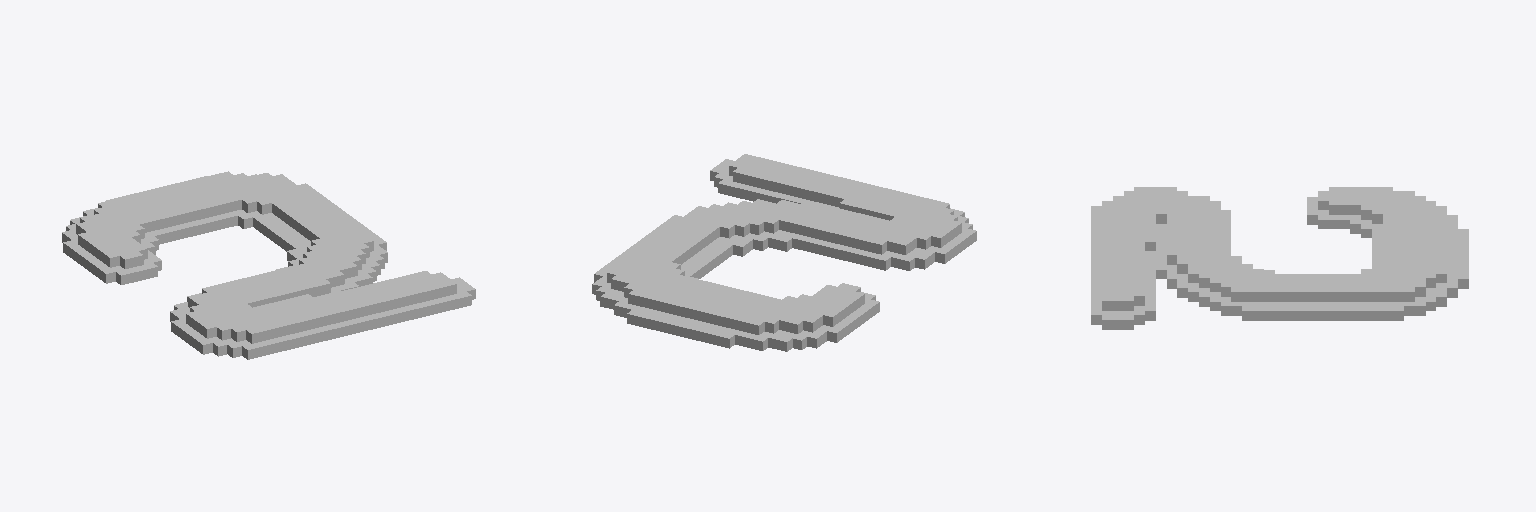
The model's file is Two.obj.
3 views of the same model, side by side, from view 1: azimuth 30°, elevation 25°; view 2: azimuth 150°, elevation 25°; view 3: azimuth 270°, elevation 25° (orthographic).
Parts seen in each view (by area): view 1: object 1; view 2: object 1; view 3: object 1.
Part boxes in pixels (bbox=[...]): object 1: bbox=[62, 171, 475, 359]; object 1: bbox=[592, 154, 976, 351]; object 1: bbox=[1091, 187, 1468, 329].
Bounding box in the file's own units: 2.8 × 0.2 × 3.5.